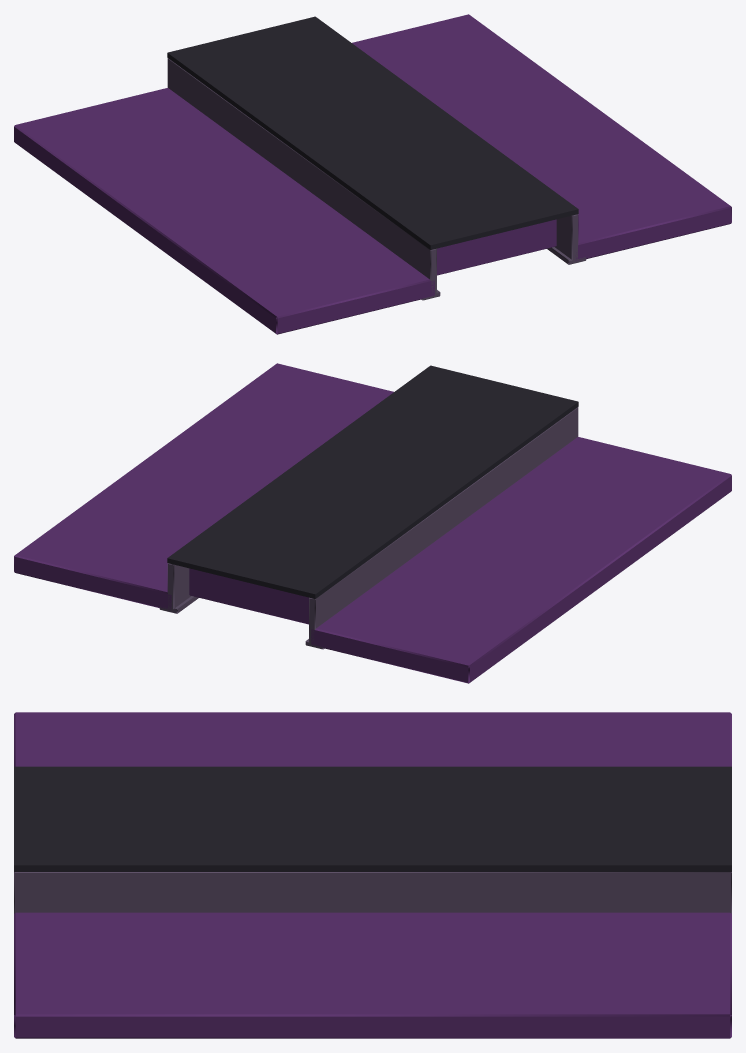
The model's file is SM_SB_Kit_KeelShell_CeilingSpine.fbx.
3 renders of one model, top to bottom at view 1: azimuth 30°, elevation 25°; view 2: azimuth 150°, elevation 25°; view 3: azimuth 270°, elevation 25°, orthographic. The views are drawn at different scales.
Parts seen in each view (by area): view 1: SM_SB_Kit_KeelShell_CeilingSpine; view 2: SM_SB_Kit_KeelShell_CeilingSpine; view 3: SM_SB_Kit_KeelShell_CeilingSpine.
Part boxes in pixels (x1,y1,x2,y2): SM_SB_Kit_KeelShell_CeilingSpine: [14, 14, 731, 334]; SM_SB_Kit_KeelShell_CeilingSpine: [14, 363, 731, 683]; SM_SB_Kit_KeelShell_CeilingSpine: [14, 712, 731, 1038].
Size of the model in its own units: 400 by 400 by 51.6.
